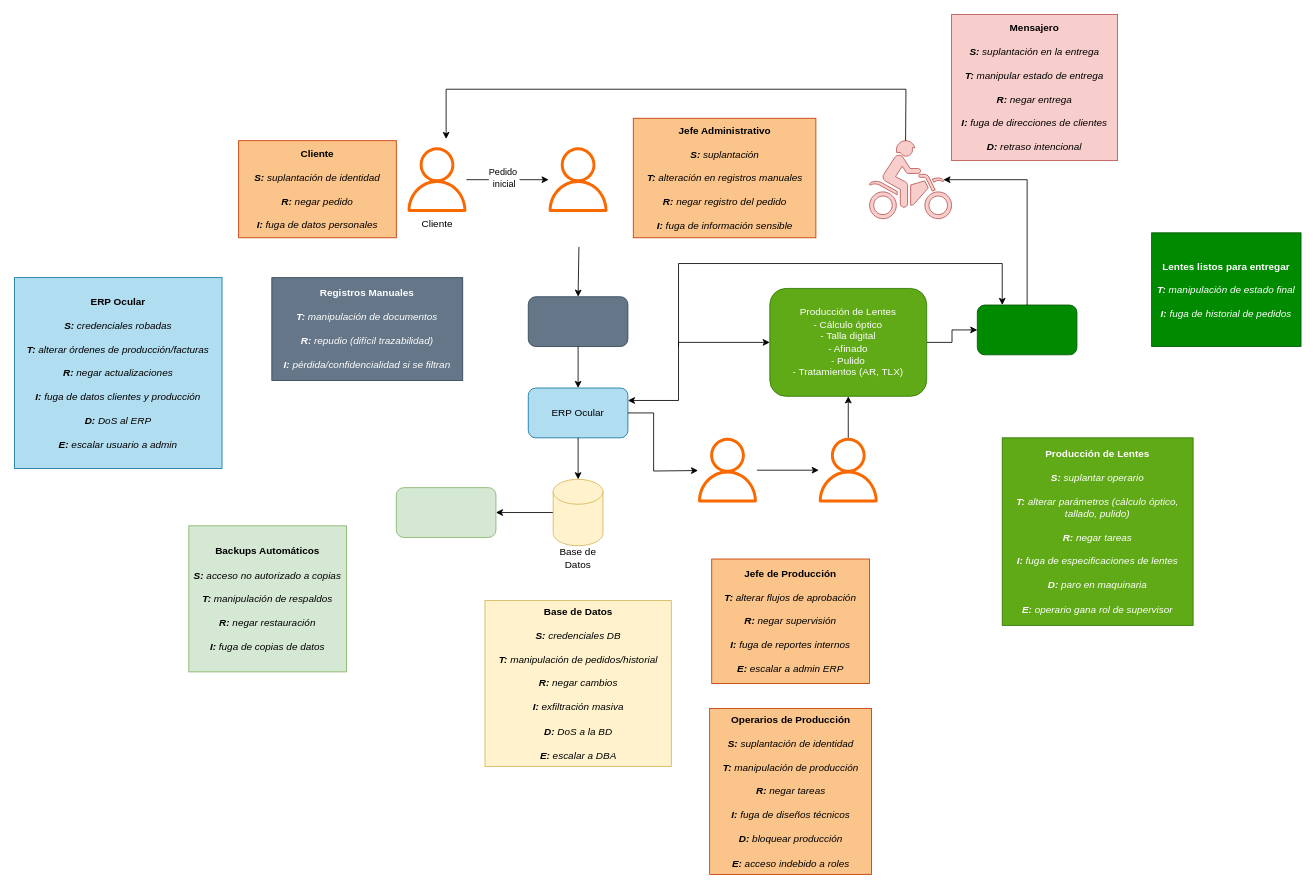
Some shapes in this 1316 by 889 pixel diagram are drawn without their labels. Each missing label, with the centre of its shape:
"Backups automáticos" belongs at pixel 445 512.
"Jefe Administrativo" belongs at pixel 577 179.
"Jefe de Producción" belongs at pixel 727 470.
"Lentes listo para entregar" belongs at pixel 1026 329.
"Mensajero" belongs at pixel 910 179.
"Operarios de Producción" belongs at pixel 848 470.
"Registros manuales" belongs at pixel 577 321.
